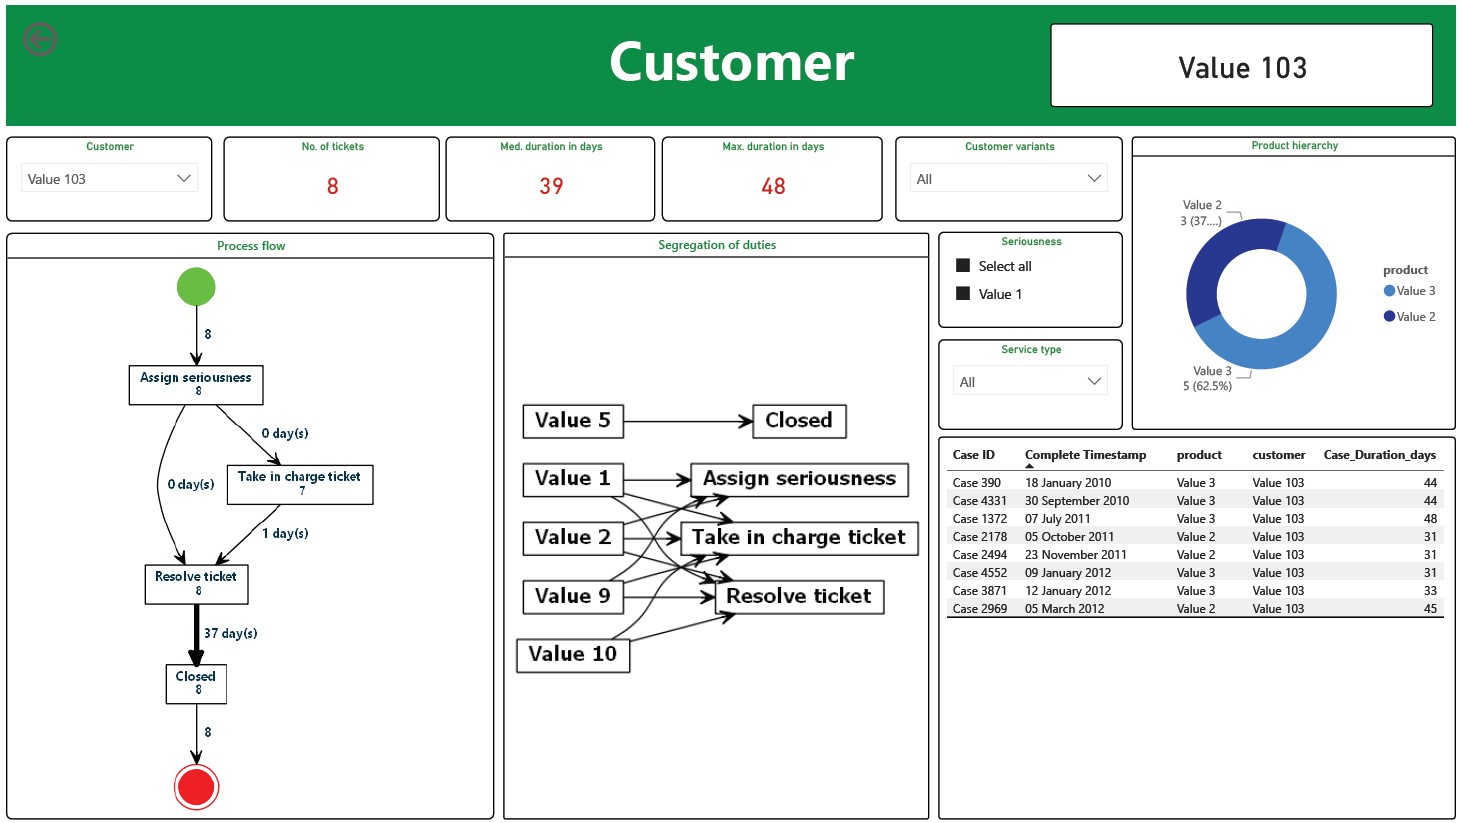

The page's visual inventory and layout, read from the dashboard file:
{"tool":"powerbi","page":{"name":"Customer","canvas":[1280,720],"ordinal":6},"visuals":[{"type":"shape","box":[0,0,1280,105.8],"z":0},{"type":"textbox","box":[299.3,9.5,682.3,86.3],"z":1000},{"type":"actionButton","box":[10,10,100,40],"z":2000},{"type":"card","title":"No. of tickets","fields":{"Values":["Count(Helpdesk_log.Case ID)"]},"box":[191.9,116.1,190.7,74.6],"z":3000},{"type":"tableEx","title":"Tickets raised by customer","fields":{"Values":["Distinct_log.Case ID","Distinct_log.Complete Timestamp","Distinct_log.product","Distinct_log.customer","Distinct_log.Case_Duration_days"]},"box":[822.7,381.4,457.2,337.4],"z":4000},{"type":"card","title":"Med. duration in days","fields":{"Values":["Median(Distinct_log.Case_Duration_days)"]},"box":[387.5,116.1,185.8,74.6],"z":5000},{"type":"card","title":"Max. duration in days","fields":{"Values":["Max(Distinct_log.Case_Duration_days)"]},"box":[579.4,116.1,194.4,74.6],"z":6000},{"type":"donutChart","title":"Product hierarchy","fields":{"Y":["CountNonNull(Distinct_log.Case ID)"],"Category":["Helpdesk_log.product"]},"box":[993.8,116.4,286.2,258.6],"z":7000},{"type":"slicer","title":"Seriousness","fields":{"Values":["Distinct_log.seriousness"]},"box":[822.7,200.5,163.8,84.3],"z":8000},{"type":"slicer","title":"Service type","fields":{"Values":["Distinct_log.service_type"]},"box":[822.7,294.6,163.8,80.7],"z":9000},{"type":"card","title":"Max. duration in days","fields":{"Values":["Min(Distinct_log.customer)"]},"box":[921.7,15.9,338.6,74.6],"z":10000},{"type":"slicer","title":"Customer","fields":{"Values":["Distinct_log.customer"]},"box":[0,116.1,182.1,74.6],"z":11000},{"type":"pythonVisual","title":"Process flow","fields":{"Values":["Helpdesk_log.Case ID","Helpdesk_log.Complete Timestamp","Helpdesk_log.Activity","Helpdesk_log.Event_ID"]},"box":[0,200.8,431.3,518],"z":12000},{"type":"pythonVisual","title":"Segregation of duties","fields":{"Values":["Helpdesk_log.Case ID","Helpdesk_log.Activity","Helpdesk_log.Resource","Helpdesk_log.product","Helpdesk_log.workgroup"]},"box":[438.7,200.8,376.7,518],"z":13000},{"type":"slicer","title":"Customer variants","fields":{"Values":["Distinct_log.Customer_Variant"]},"box":[784.8,116.1,201.7,74.6],"z":14000}]}

Visuals, with their boxes in screenshot pixels (x1, y1, x2, y2), scaled from the page's 1280x720 canvas onto the 1463x823 screenshot:
shape: region(0, 0, 1462, 121)
textbox: region(342, 11, 1122, 110)
actionButton: region(11, 11, 126, 57)
"No. of tickets" card: region(219, 133, 437, 218)
"Tickets raised by customer" tableEx: region(940, 436, 1462, 822)
"Med. duration in days" card: region(443, 133, 655, 218)
"Max. duration in days" card: region(662, 133, 884, 218)
"Product hierarchy" donutChart: region(1136, 133, 1462, 429)
"Seriousness" slicer: region(940, 229, 1128, 326)
"Service type" slicer: region(940, 337, 1128, 429)
"Max. duration in days" card: region(1053, 18, 1440, 103)
"Customer" slicer: region(0, 133, 208, 218)
"Process flow" pythonVisual: region(0, 230, 493, 822)
"Segregation of duties" pythonVisual: region(501, 230, 932, 822)
"Customer variants" slicer: region(897, 133, 1128, 218)
